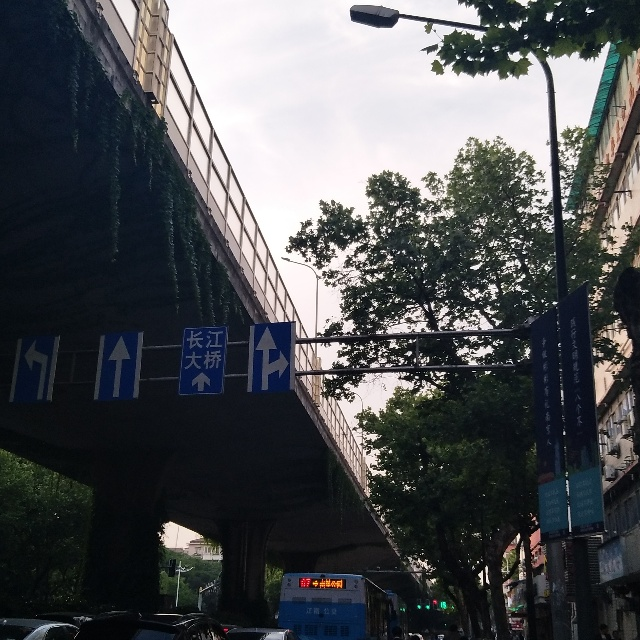left: (9, 335, 60, 403)
straight: (94, 331, 143, 400)
